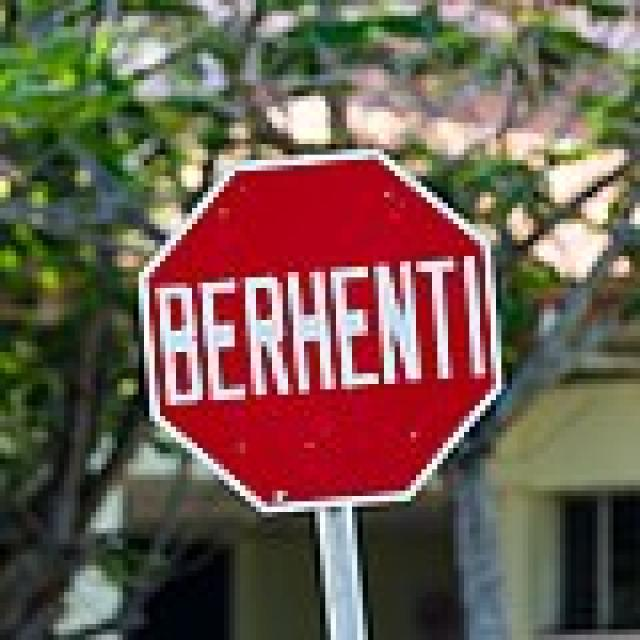stop-sign: (134, 108, 530, 520)
